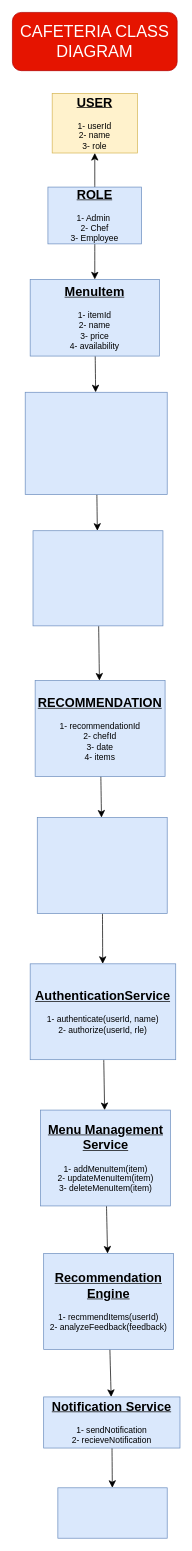
The diagram is 192 pixels wide and 1551 high, and some of its shapes have lost their labels. Here are the shapes that lost their labels. From the top down, the centre of each, then its label:
the point at 95,443: FEEDBACK 1- feedbackId 2- userId 3- itemId 4- comment 5- rating 6- date
the point at 97,578: NOTIFICATION 1- notificationID 2- userId 3- message 4- date
the point at 102,865: REPORT 1- reportId 2- chefId 3- month 4- data: List<Feeedback>
the point at 112,1512: Report Service 1- generateMonthly Report
